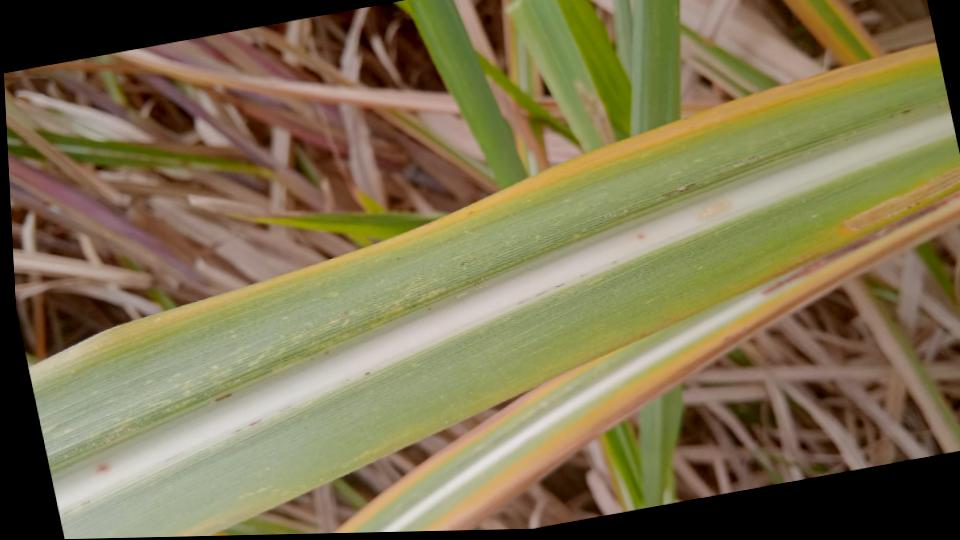RedRot: (760, 190, 960, 296), (95, 462, 112, 475), (636, 232, 645, 240)
Rust: (661, 181, 696, 198), (731, 154, 760, 166), (215, 392, 232, 402), (247, 419, 262, 427), (232, 427, 242, 433), (902, 108, 911, 113), (364, 371, 371, 375)
Yellow: (29, 42, 939, 387), (421, 246, 873, 531), (331, 359, 596, 533)
